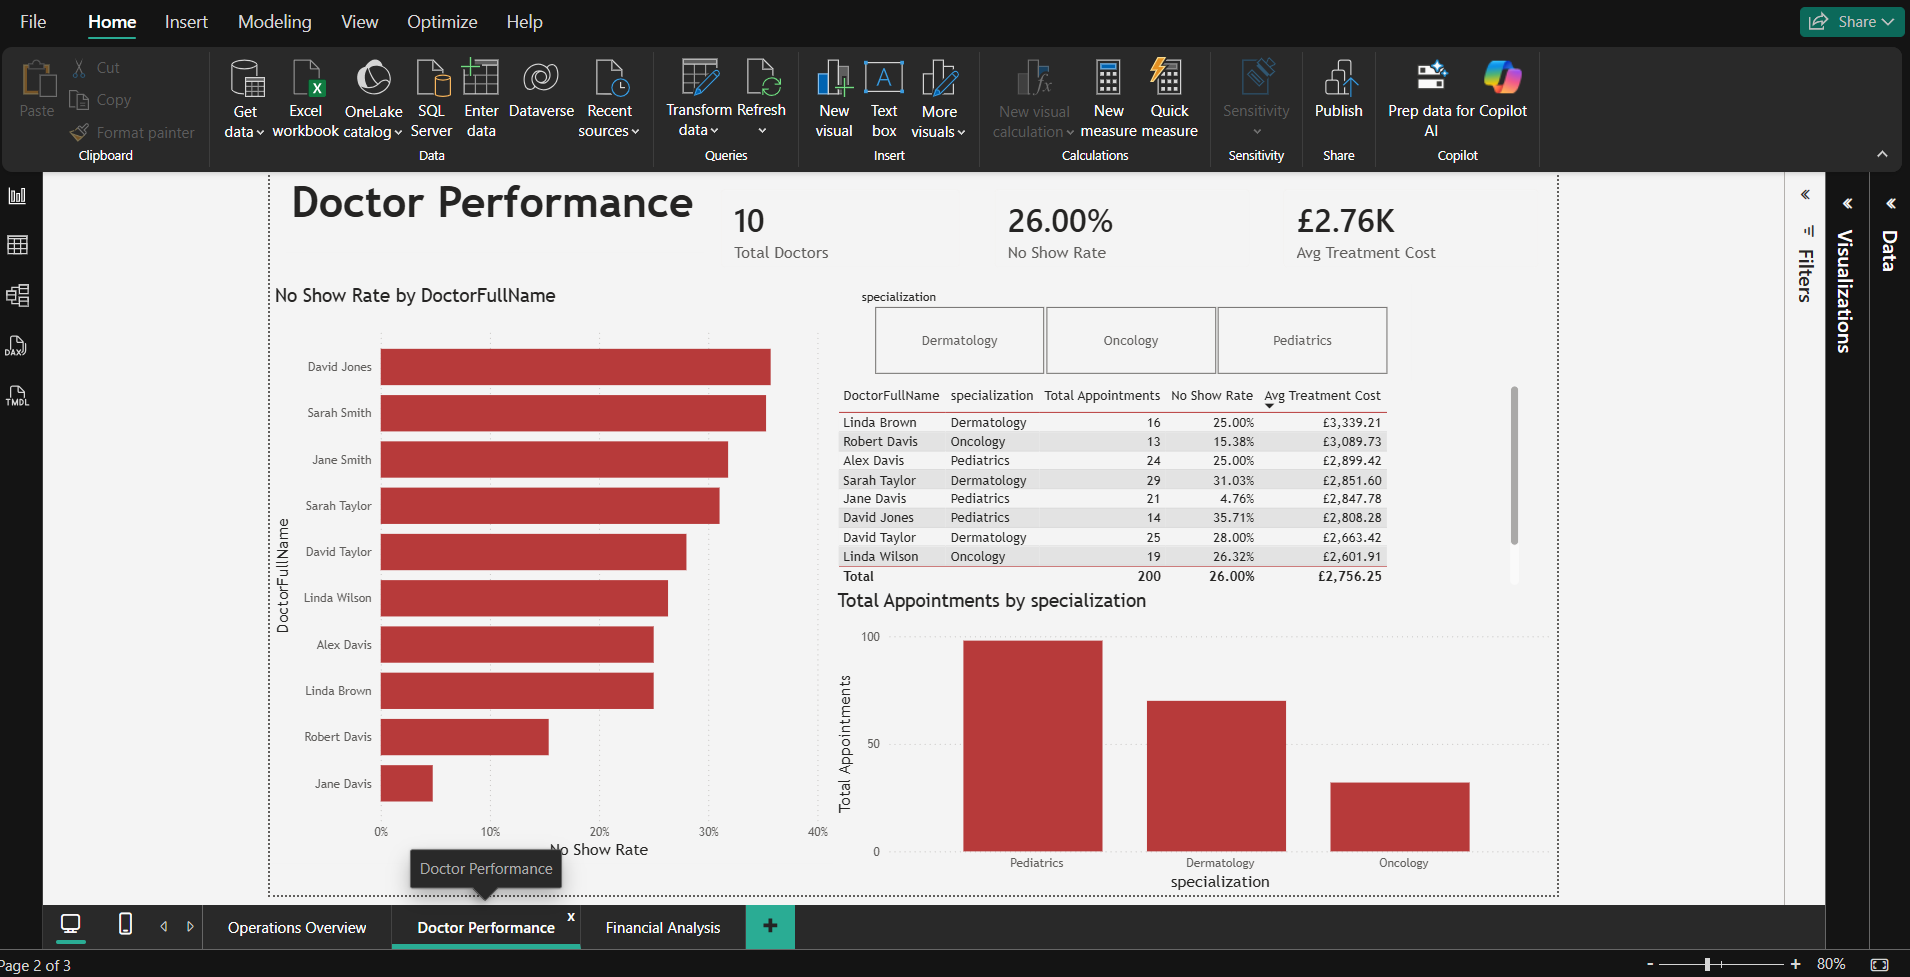

Layout of this report page (visuals, bound fields, positions):
{"tool":"powerbi","page":{"name":"Doctor Performance","canvas":[1280,720],"ordinal":1},"visuals":[{"type":"textbox","box":[16,0,416,80],"z":0},{"type":"cardVisual","fields":{"Data":["_Measures.Total Doctors"]},"box":[432,0,272,112],"z":1000},{"type":"cardVisual","fields":{"Data":["_Measures.No Show Rate"]},"box":[704,0,288,112],"z":2000},{"type":"cardVisual","fields":{"Data":["_Measures.Avg Treatment Cost"]},"box":[992,0,288,112],"z":3000},{"type":"barChart","fields":{"Category":["doctors.DoctorFullName"],"Y":["_Measures.No Show Rate"]},"box":[0,112,560,576],"z":4000},{"type":"columnChart","fields":{"Category":["doctors.specialization"],"Y":["_Measures.Total Appointments"]},"box":[560,416,720,304],"z":5000},{"type":"tableEx","fields":{"Values":["doctors.DoctorFullName","doctors.specialization","_Measures.Total Appointments","_Measures.No Show Rate","_Measures.Avg Treatment Cost"]},"box":[560,208,688,208],"z":6000},{"type":"slicer","fields":{"Values":["doctors.specialization"]},"box":[576,112,560,96],"z":6001}]}

Visuals, with their boxes on the page's 1280x720 design canvas (x1, y1, x2, y2). These are canvas units, not pixel positions in the 1910x977 screenshot, which may show the page scaled, cropped or inside an application window:
textbox: <bbox>16, 0, 432, 80</bbox>
cardVisual - _Measures.Total Doctors: <bbox>432, 0, 704, 112</bbox>
cardVisual - _Measures.No Show Rate: <bbox>704, 0, 992, 112</bbox>
cardVisual - _Measures.Avg Treatment Cost: <bbox>992, 0, 1280, 112</bbox>
barChart - doctors.DoctorFullName x _Measures.No Show Rate: <bbox>0, 112, 560, 688</bbox>
columnChart - doctors.specialization x _Measures.Total Appointments: <bbox>560, 416, 1280, 720</bbox>
tableEx - doctors.DoctorFullName x doctors.specialization: <bbox>560, 208, 1248, 416</bbox>
slicer - doctors.specialization: <bbox>576, 112, 1136, 208</bbox>
